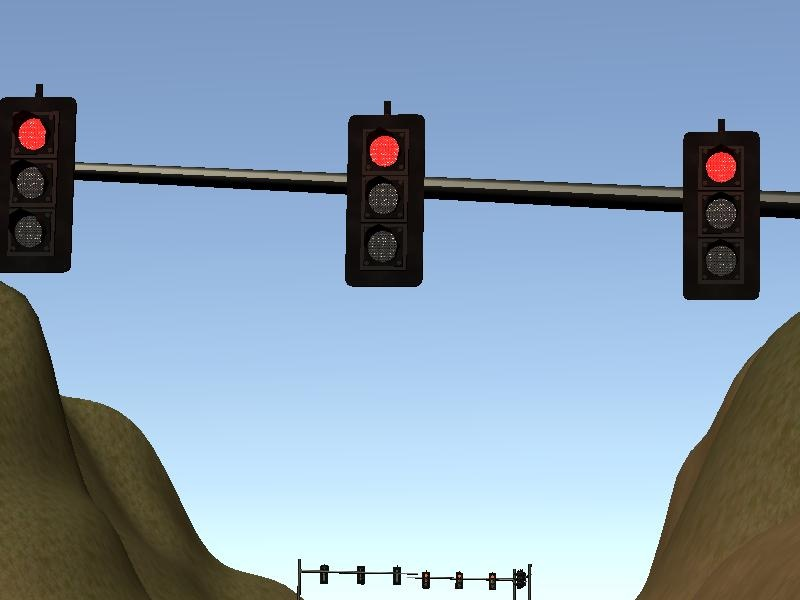RED: (345, 116, 423, 285), (1, 97, 76, 272), (684, 132, 760, 299)
